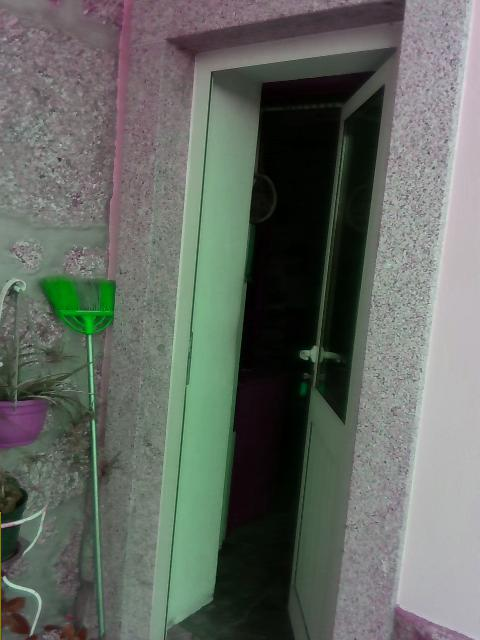semi_door: (150, 5, 403, 639)
